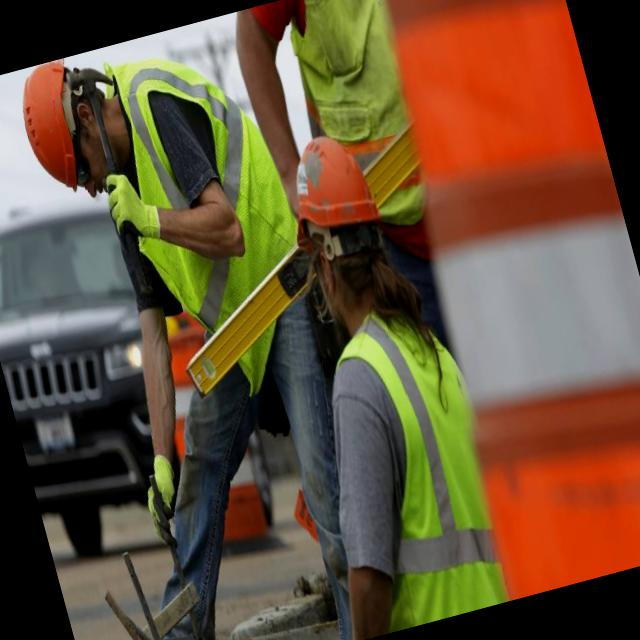goggles: (48, 83, 102, 197)
helmet: (270, 116, 384, 258), (5, 55, 106, 204)
vest: (317, 303, 517, 631), (97, 37, 303, 342), (277, 0, 446, 177)
